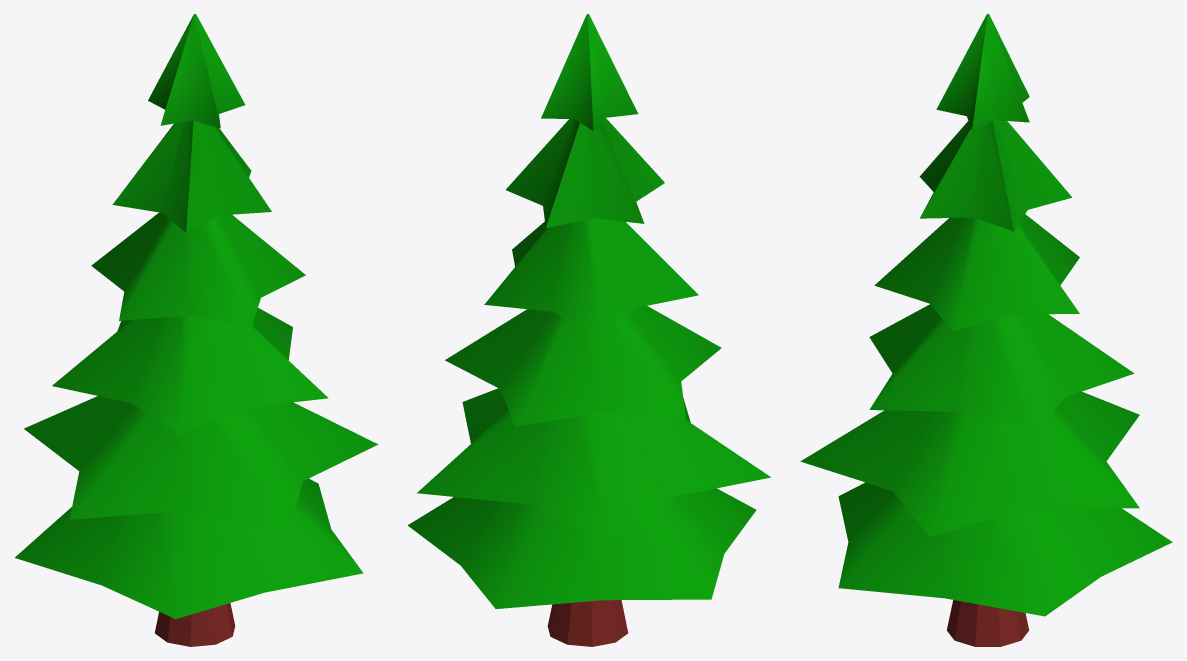
File: Tree4.fbx
3 views of the same model, side by side, from view 1: azimuth 30°, elevation 25°; view 2: azimuth 150°, elevation 25°; view 3: azimuth 270°, elevation 25° (orthographic).
Parts seen in each view (by area): view 1: Cylinder, Cylinder.001; view 2: Cylinder, Cylinder.001; view 3: Cylinder, Cylinder.001.
Boxes of the visible parts, x1=… form: Cylinder: x1=14, y1=14, x2=378, y2=618; Cylinder.001: x1=155, y1=603, x2=235, y2=646; Cylinder: x1=408, y1=14, x2=770, y2=608; Cylinder.001: x1=547, y1=600, x2=628, y2=646; Cylinder: x1=800, y1=14, x2=1172, y2=616; Cylinder.001: x1=946, y1=600, x2=1029, y2=646.
Size of the model in its own units: 671 by 1276 by 700.
